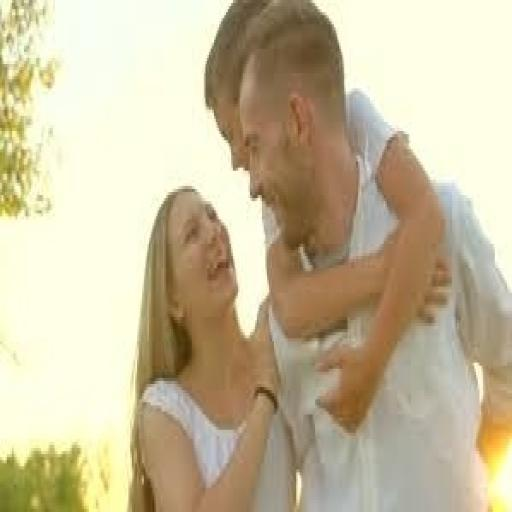hugging: (125, 0, 510, 509)
